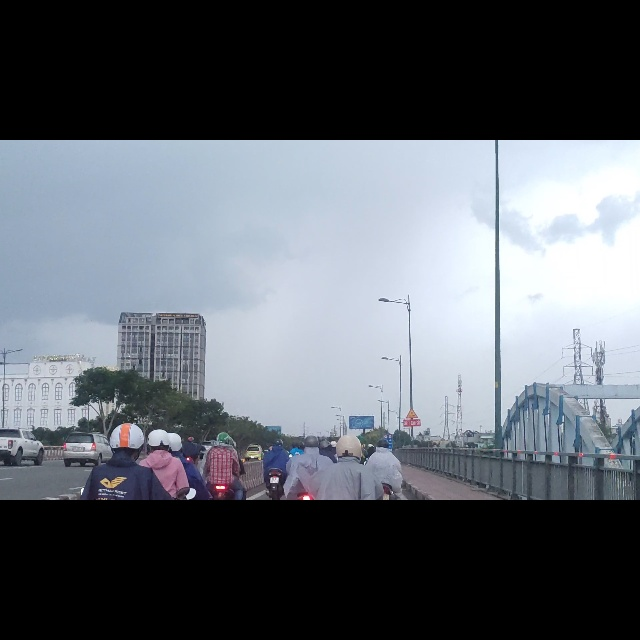bien_cam: (405, 475, 419, 495)
